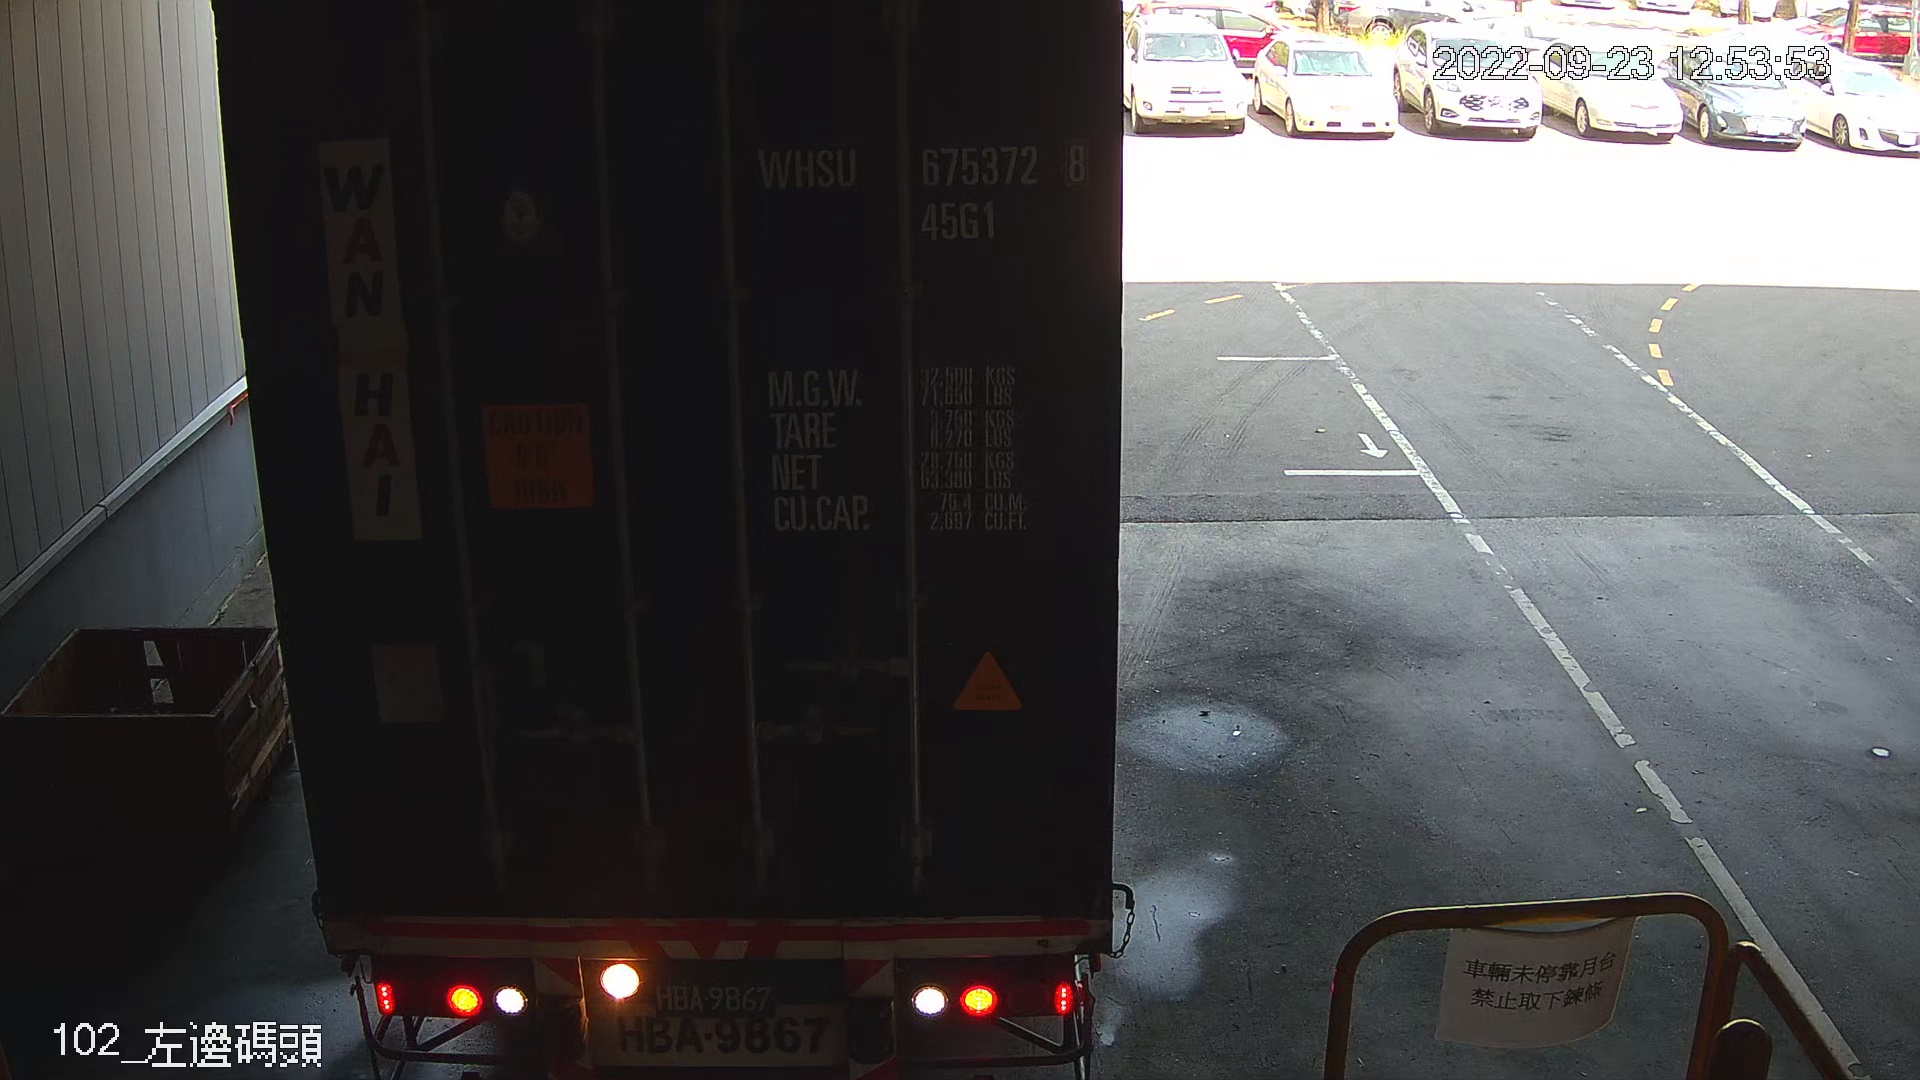container: (738, 127, 1102, 255)
